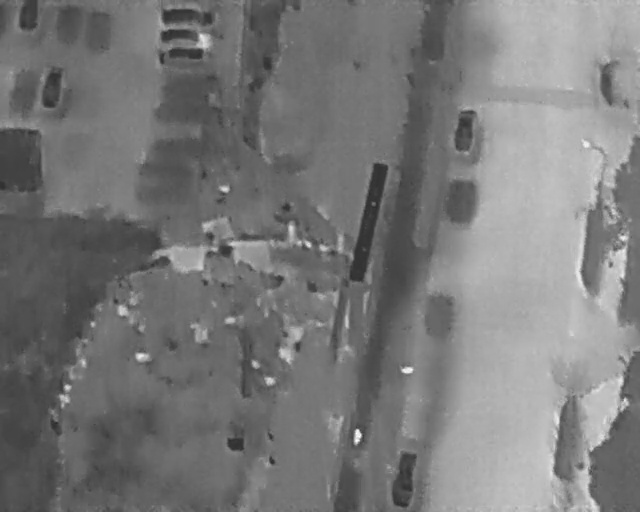Car: (390, 449, 419, 508), (39, 64, 66, 109), (453, 108, 477, 153), (160, 28, 212, 47), (162, 8, 213, 27), (160, 48, 208, 65), (19, 0, 38, 30)
Person: (352, 429, 362, 446)
